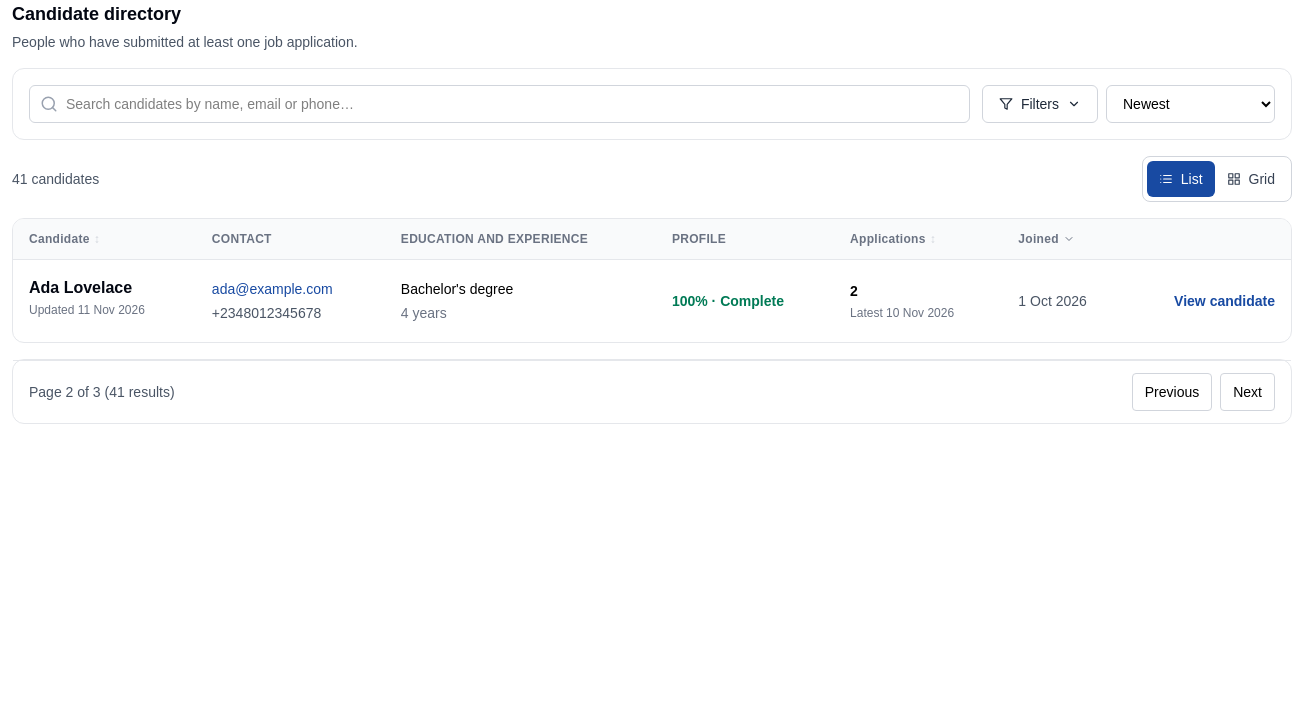
Scenario: candidate directory layouts › hides account activity from staff roles without Super-admin access
Click the button "Grid" at (1251, 179), box 1214,161 -> 1287,197
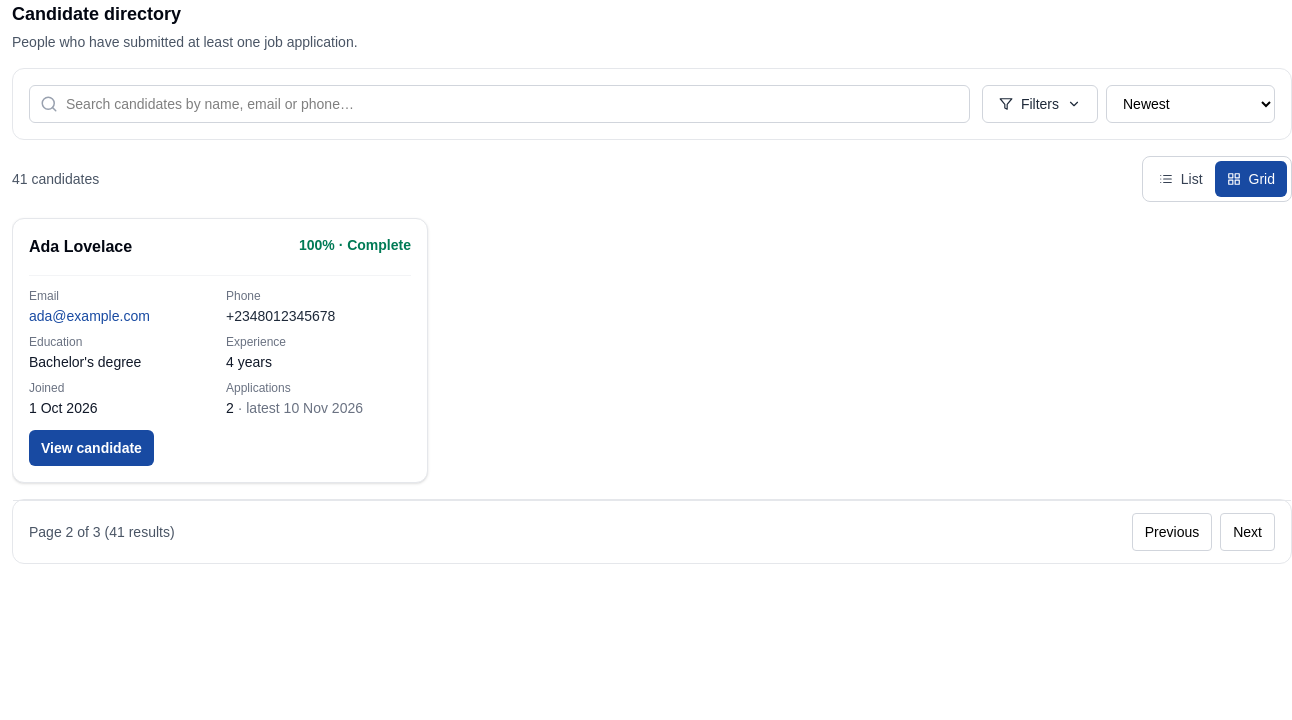
Expected: the element "Ada Lovelace" does not show "Account activity", 12,218 -> 428,483
Now the element "Ada Lovelace" shows "Applications", box 226,381 -> 291,395
